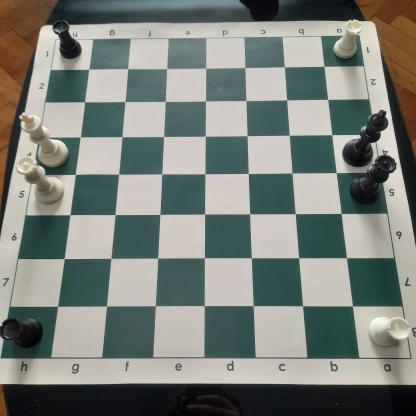black-king: (340, 106, 391, 168)
black-queen: (346, 152, 400, 209)
black-rook: (0, 309, 48, 353), (50, 14, 85, 60)
white-king: (16, 110, 71, 171)
white-queen: (11, 152, 68, 207)
white-rook: (365, 310, 413, 352), (330, 15, 366, 61)
